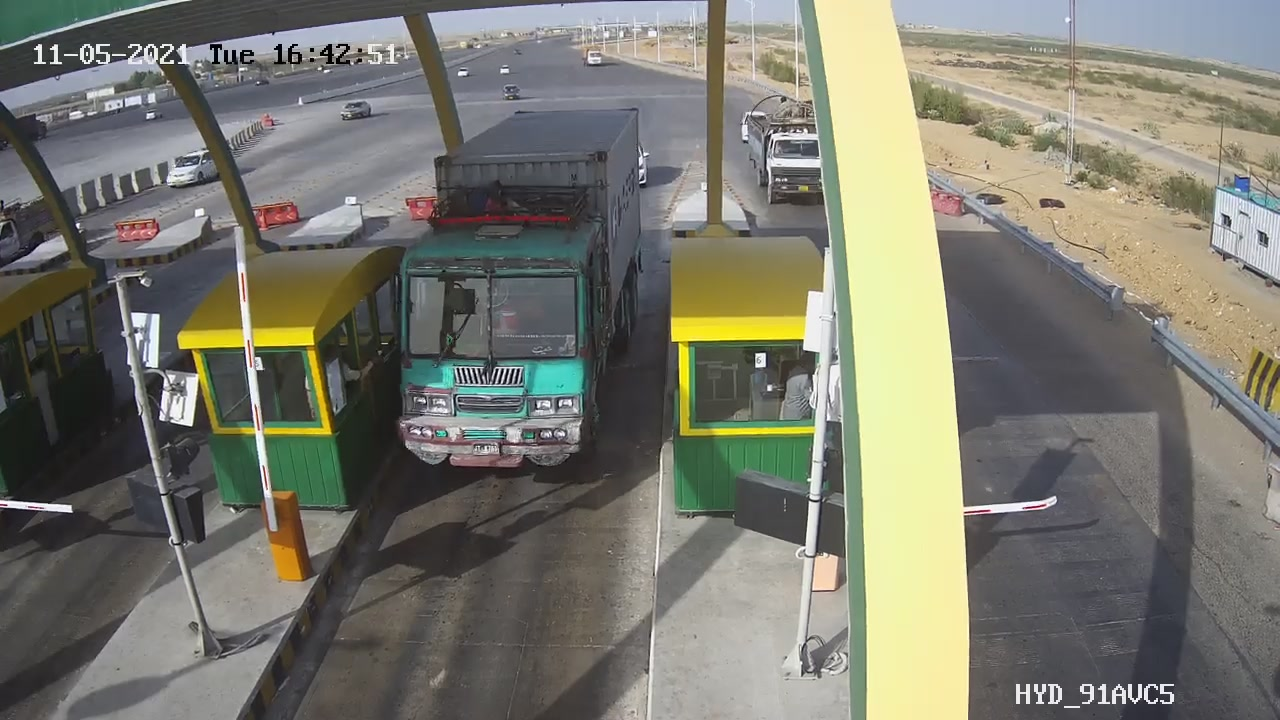F6: (381, 84, 670, 497)
